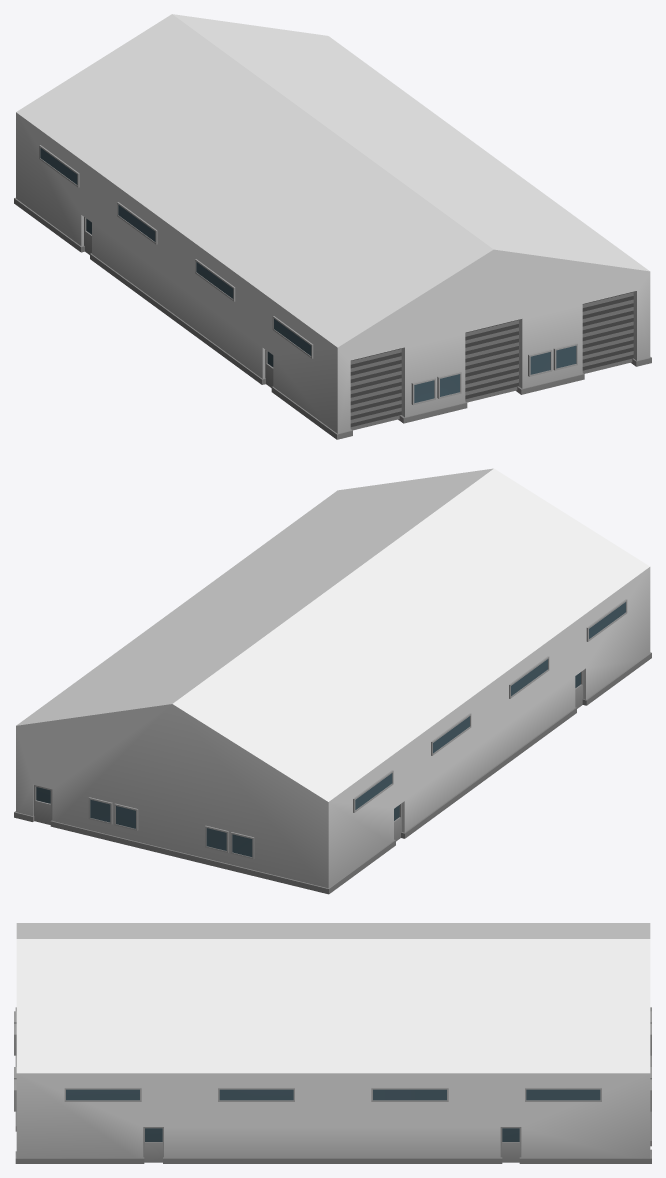
File: hangar_008.glb
3 renders of one model, top to bottom at view 1: azimuth 30°, elevation 25°; view 2: azimuth 150°, elevation 25°; view 3: azimuth 270°, elevation 25°, orthographic.
Visible parts, largest first — view 1: hangar_008; view 2: hangar_008; view 3: hangar_008.
Boxes of the visible parts, x1=… form: hangar_008: x1=14, y1=14, x2=651, y2=439; hangar_008: x1=14, y1=468, x2=651, y2=894; hangar_008: x1=14, y1=923, x2=651, y2=1163.
Bounding box in the file's own units: 23.74 × 10.91 × 42.24.
Materials: 1 (1 with a texture image).
